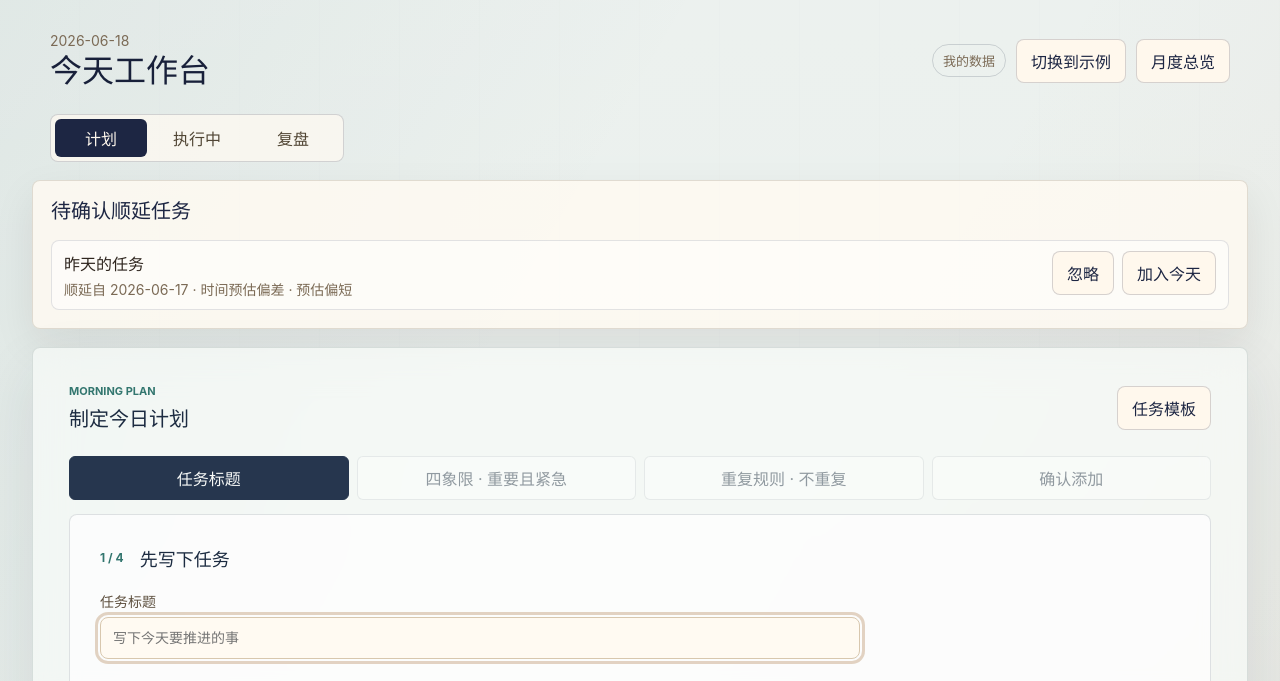
Test: DailyWorkspace › hides a carryover candidate without adding it to today
Expected: the text "昨天的任务" is shown, top-left (64, 254), bottom-right (144, 274)
Step 1. Click the button "忽略" → (1083, 273), box top-left (1052, 251), bottom-right (1114, 295)
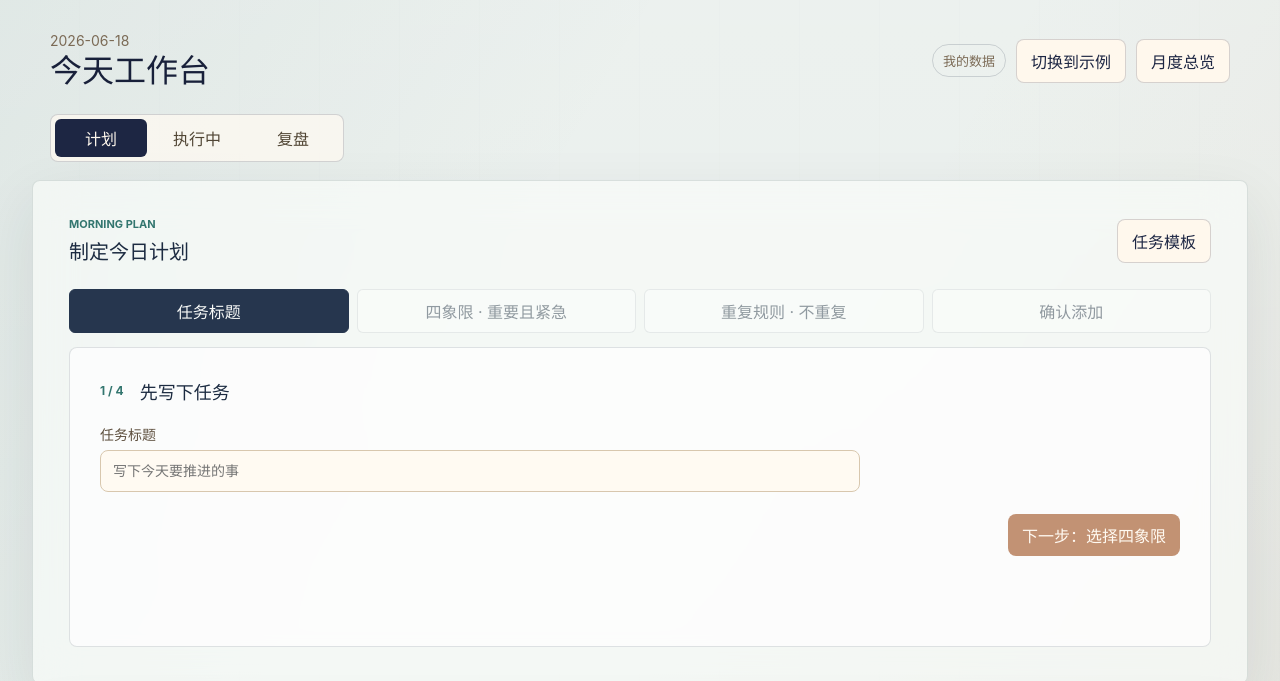
Now the heading "待确认顺延任务" is gone
Now the text "昨天的任务" is gone
